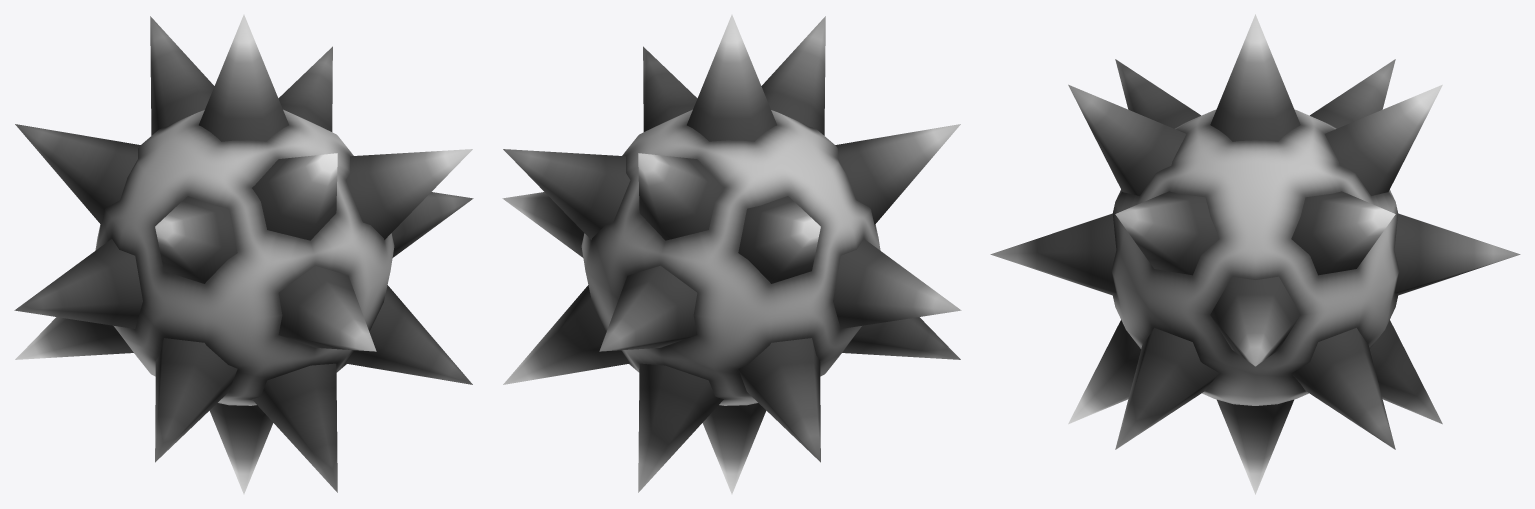
Rendered from SpikeBall.fbx.
3 renders of one model, left to right at view 1: azimuth 30°, elevation 25°; view 2: azimuth 150°, elevation 25°; view 3: azimuth 270°, elevation 25°, orthographic.
Visible parts, largest first — view 1: SpikeBall; view 2: SpikeBall; view 3: SpikeBall.
Boxes of the visible parts, x1,y1,x2,y2 form: SpikeBall: [14, 14, 473, 494]; SpikeBall: [502, 14, 961, 494]; SpikeBall: [990, 14, 1520, 494].
Bounding box in the file's own units: 6.01 × 6.01 × 6.01.
Materials: 1 (1 with a texture image).
